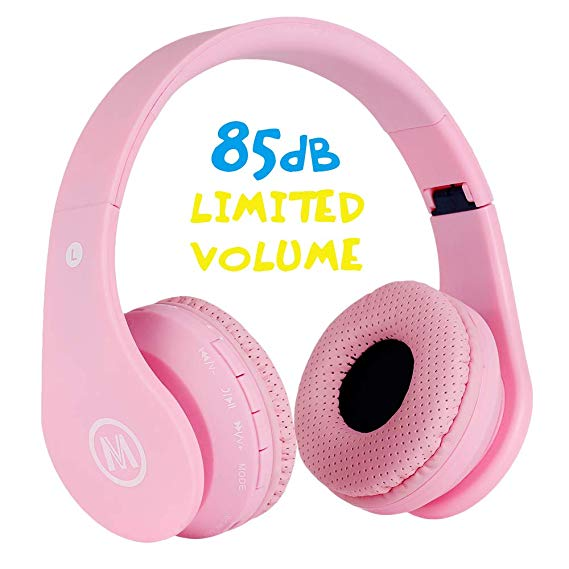Headphone: (28, 12, 544, 554)
